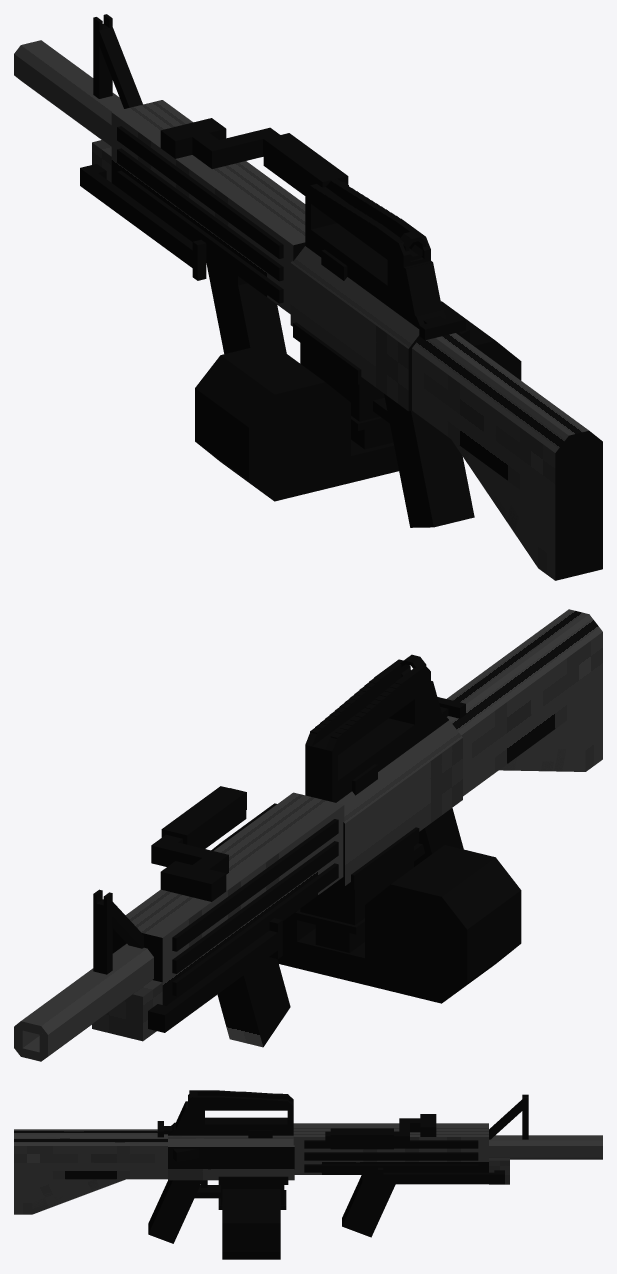
Rendered from mteg_m16_lsw.glb.
The picture shows the model from 3 angles, top to bottom: view 1: azimuth 30°, elevation 25°; view 2: azimuth 150°, elevation 25°; view 3: azimuth 270°, elevation 25°; orthographic projection. The views are drawn at different scales.
Parts seen in each view (by area): view 1: Gun; view 2: Gun; view 3: Gun.
Boxes of the visible parts, x1,y1,x2,y2 form: Gun: (14, 14, 602, 580); Gun: (14, 609, 602, 1061); Gun: (14, 1090, 602, 1259).
Size of the model in its own units: 0.5 by 0.4807 by 1.74.
1 material, 1 textured.
